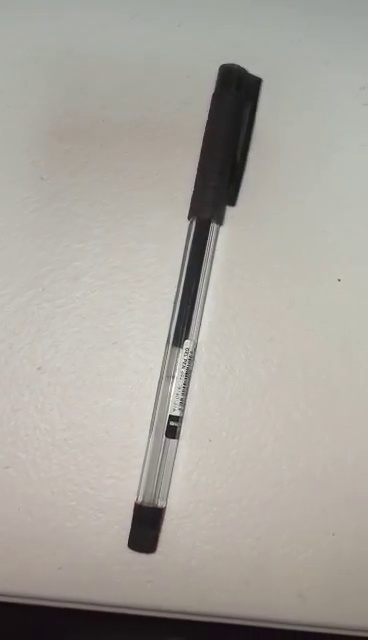ballpen: (129, 53, 264, 560)
